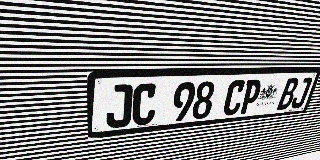8: (191, 81, 217, 120)
9: (170, 82, 197, 122)
B: (276, 78, 300, 110)
C: (131, 83, 158, 126), (221, 80, 247, 116)
J: (106, 84, 133, 129), (289, 77, 313, 109)
P: (238, 79, 263, 114)
